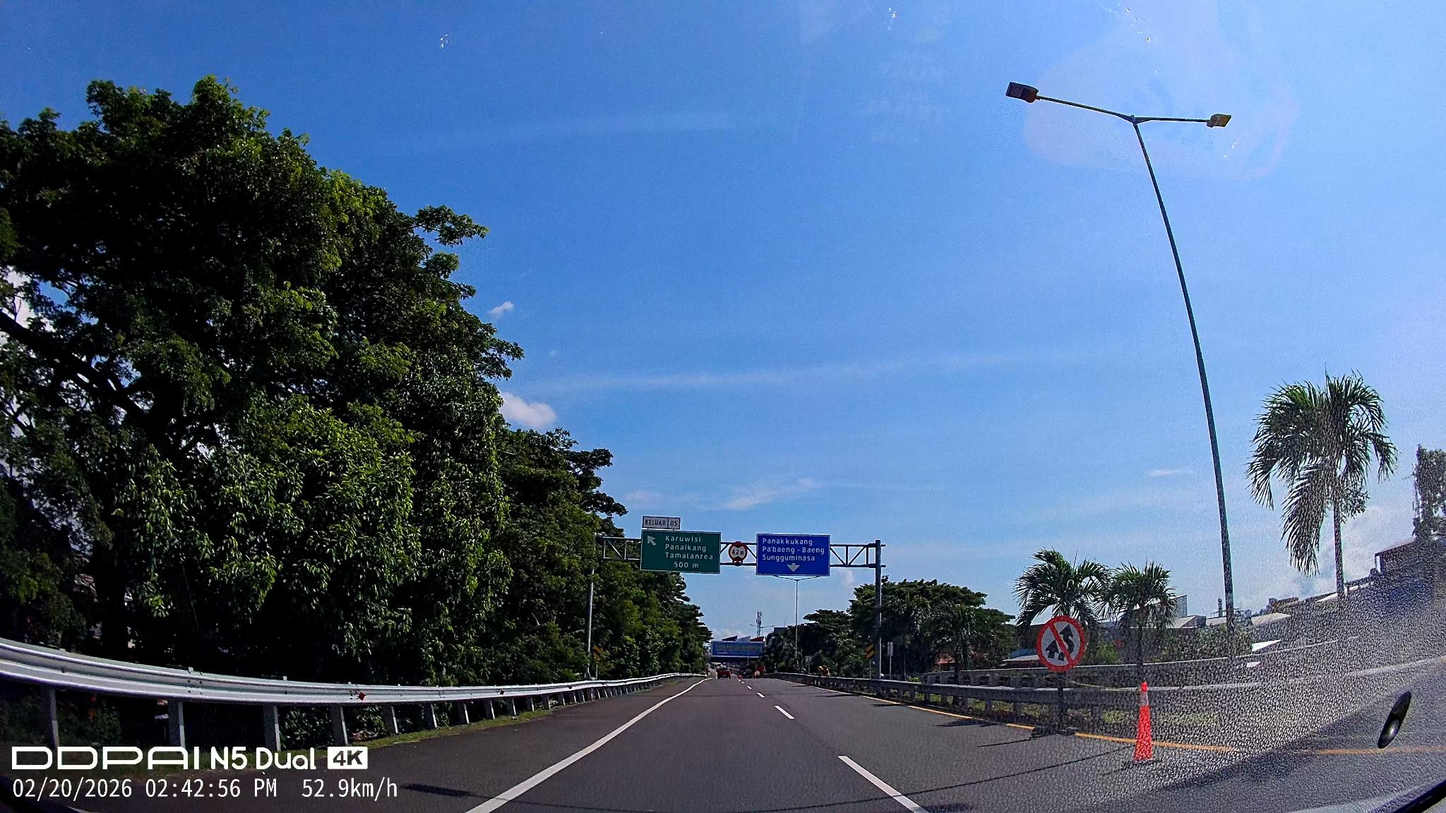rambu_teks: (640, 530, 721, 574), (757, 534, 830, 576)
